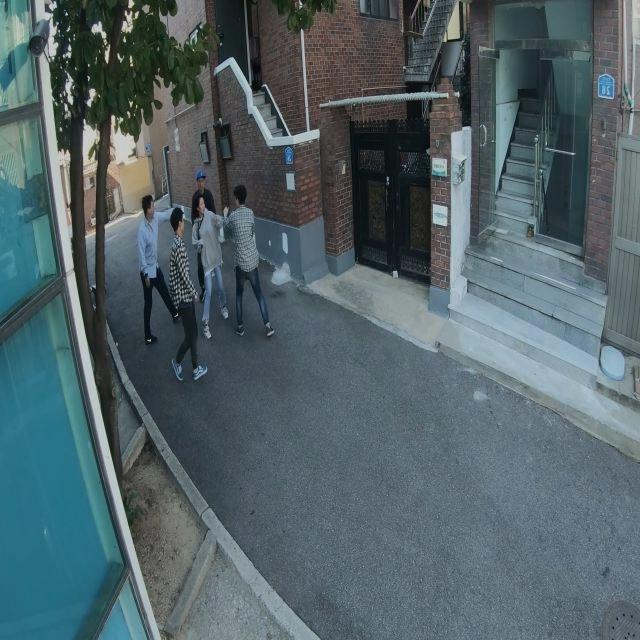fight: (190, 189, 272, 340)
non-fight: (166, 200, 212, 382), (132, 195, 172, 345)
